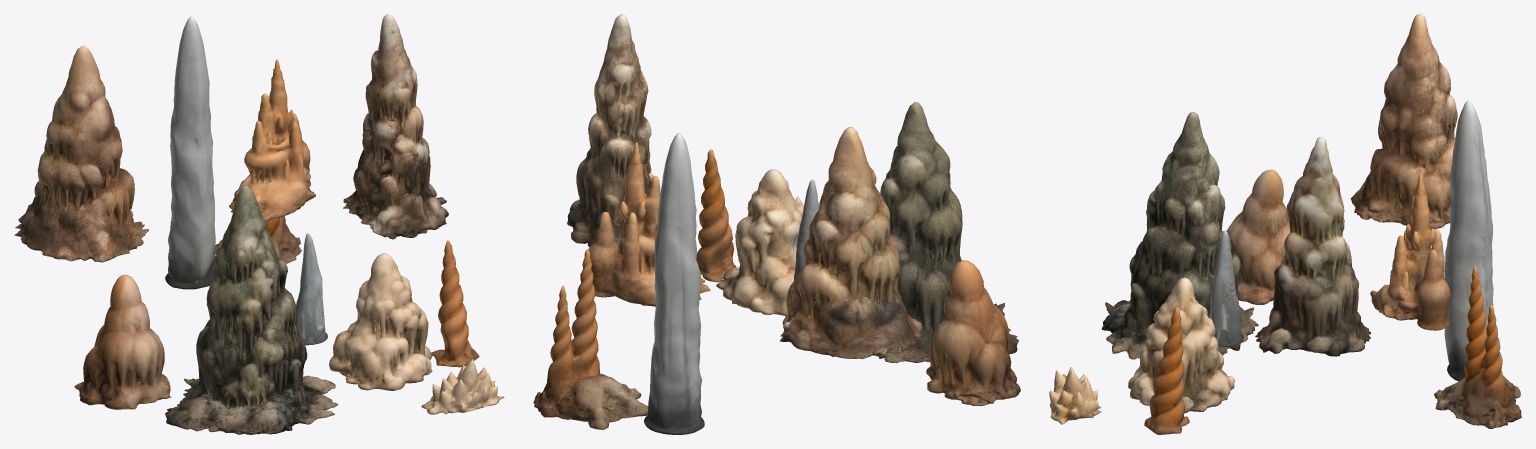
File: Cave_Structures_1.glb
3 renders of one model, left to right at view 1: azimuth 30°, elevation 25°; view 2: azimuth 150°, elevation 25°; view 3: azimuth 270°, elevation 25°, orthographic. The views are drawn at different scales.
Parts seen in each view (by area): view 1: Cave_Structures_1; view 2: Cave_Structures_1; view 3: Cave_Structures_1.
Boxes of the visible parts, x1,y1,x2,y2 form: Cave_Structures_1: (14,14,504,434); Cave_Structures_1: (533,14,1020,434); Cave_Structures_1: (1049,14,1521,434).
Bounding box in the file's own units: 1.79 × 1.3 × 1.89.
1 material, 1 textured.
